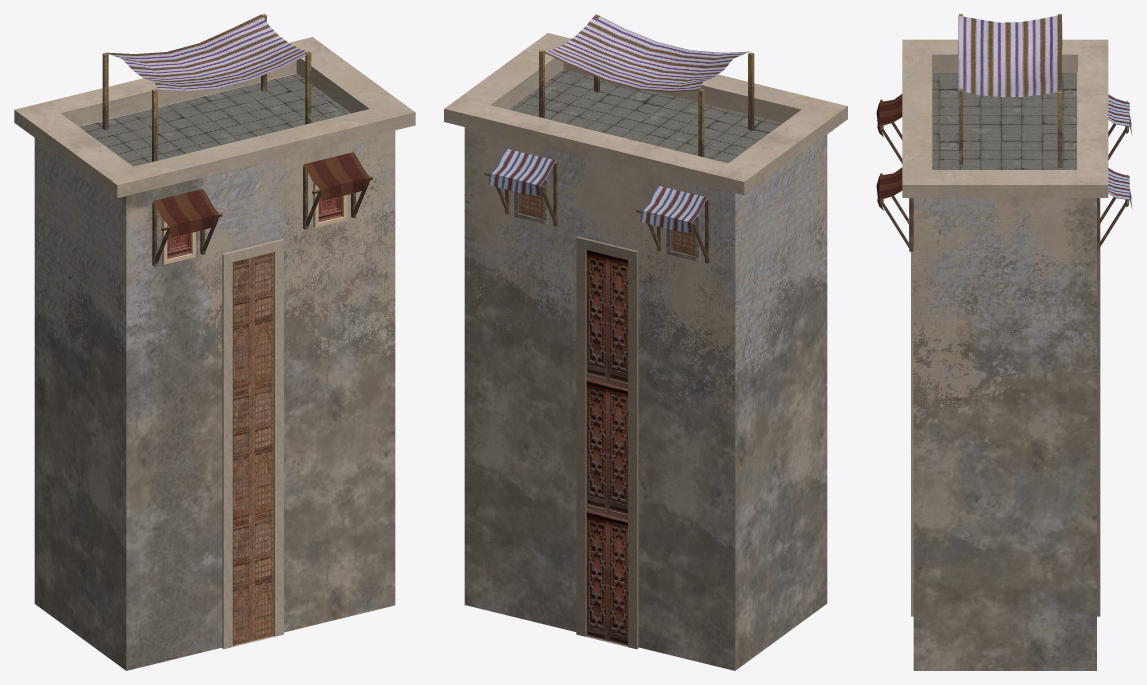
Rendered from medina_cityscape_daar_3.gltf.
3 views of the same model, side by side, from view 1: azimuth 30°, elevation 25°; view 2: azimuth 150°, elevation 25°; view 3: azimuth 270°, elevation 25° (orthographic).
Parts seen in each view (by area): view 1: medina_cityscape_daar_3; view 2: medina_cityscape_daar_3; view 3: medina_cityscape_daar_3.
Boxes of the visible parts, x1,y1,x2,y2 form: medina_cityscape_daar_3: [14, 14, 415, 670]; medina_cityscape_daar_3: [444, 14, 847, 670]; medina_cityscape_daar_3: [876, 14, 1132, 670].
Size of the model in its own units: 5.29 by 9.37 by 3.94.
Materials: 8 (8 with a texture image).
